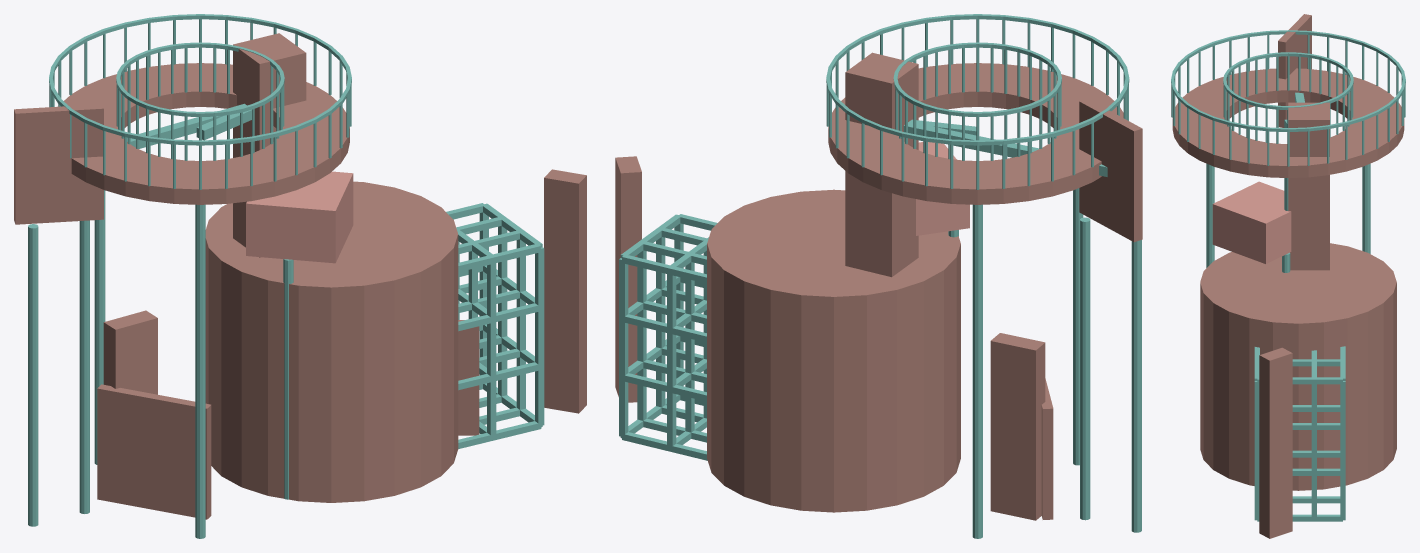
The model's file is folie_tag_127.glb.
3 renders of one model, left to right at view 1: azimuth 30°, elevation 25°; view 2: azimuth 150°, elevation 25°; view 3: azimuth 270°, elevation 25°, orthographic. The views are drawn at different scales.
Parts seen in each view (by area): view 1: folie_tag_127_00_drum, folie_tag_127_line, folie_tag_127_01_ring, folie_tag_127_02_cage, folie_tag_127_06_panel, folie_tag_127_03_fin, folie_tag_127_08_panel, folie_tag_127_09_block, folie_tag_127_core, folie_tag_127_04_fin, folie_tag_127_05_panel; view 2: folie_tag_127_00_drum, folie_tag_127_line, folie_tag_127_01_ring, folie_tag_127_02_cage, folie_tag_127_core, folie_tag_127_04_fin, folie_tag_127_08_panel, folie_tag_127_03_fin, folie_tag_127_09_block, folie_tag_127_06_panel; view 3: folie_tag_127_00_drum, folie_tag_127_01_ring, folie_tag_127_line, folie_tag_127_03_fin, folie_tag_127_core, folie_tag_127_02_cage, folie_tag_127_09_block, folie_tag_127_08_panel.
Part boxes in pixels (<box>): folie_tag_127_00_drum: <box>205,181,458,502</box>; folie_tag_127_line: <box>28,14,351,538</box>; folie_tag_127_01_ring: <box>64,63,349,204</box>; folie_tag_127_02_cage: <box>446,203,544,448</box>; folie_tag_127_06_panel: <box>97,384,211,519</box>; folie_tag_127_03_fin: <box>544,169,586,413</box>; folie_tag_127_08_panel: <box>14,104,103,224</box>; folie_tag_127_09_block: <box>246,171,353,263</box>; folie_tag_127_core: <box>233,33,306,257</box>; folie_tag_127_04_fin: <box>103,310,157,394</box>; folie_tag_127_05_panel: <box>458,320,479,435</box>; folie_tag_127_00_drum: <box>707,189,960,512</box>; folie_tag_127_line: <box>826,14,1141,538</box>; folie_tag_127_01_ring: <box>828,63,1123,204</box>; folie_tag_127_02_cage: <box>619,214,717,460</box>; folie_tag_127_core: <box>845,52,918,277</box>; folie_tag_127_04_fin: <box>990,333,1045,520</box>; folie_tag_127_08_panel: <box>1079,99,1142,242</box>; folie_tag_127_03_fin: <box>615,156,641,402</box>; folie_tag_127_09_block: <box>916,142,969,235</box>; folie_tag_127_06_panel: <box>1041,378,1053,519</box>; folie_tag_127_00_drum: <box>1200,243,1396,490</box>; folie_tag_127_01_ring: <box>1172,68,1404,177</box>; folie_tag_127_line: <box>1171,30,1405,272</box>; folie_tag_127_03_fin: <box>1259,347,1292,538</box>; folie_tag_127_core: <box>1288,102,1329,270</box>; folie_tag_127_02_cage: <box>1254,346,1345,521</box>; folie_tag_127_09_block: <box>1212,181,1291,263</box>; folie_tag_127_08_panel: <box>1278,14,1311,127</box>.
Bounding box in the file's own units: 13 × 9.34 × 6.21.
